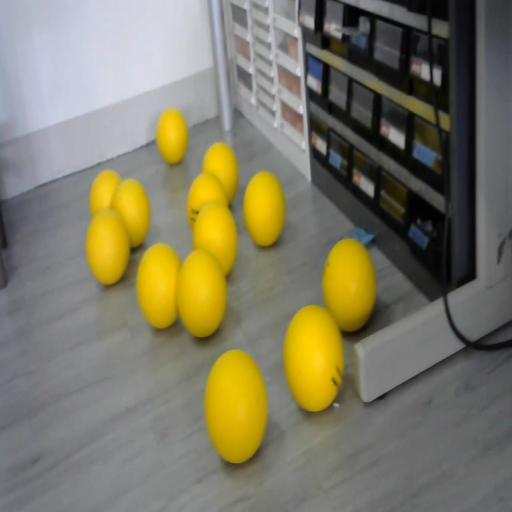FUEL: (202, 346, 268, 462), (282, 303, 346, 411), (323, 238, 377, 332), (136, 242, 182, 328), (192, 201, 238, 277), (86, 209, 130, 285), (243, 170, 286, 246), (202, 142, 240, 204), (156, 108, 188, 164), (89, 169, 122, 217)
